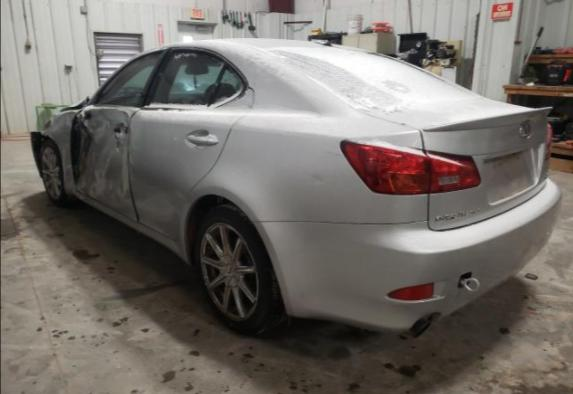Broken part: (68, 107, 140, 220), (30, 132, 41, 176), (59, 97, 90, 112)
Dent: (138, 189, 185, 241), (41, 111, 78, 146), (311, 173, 325, 184)
Missing part: (112, 122, 129, 135)
Scratch: (101, 159, 109, 176)
